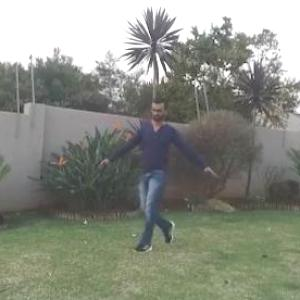land: (108, 100, 212, 233)
